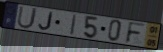0: (108, 19, 124, 43)
5: (82, 15, 98, 40)
F: (124, 21, 147, 45)
I: (69, 13, 78, 37)
J: (37, 11, 54, 31)
U: (16, 6, 39, 30)
